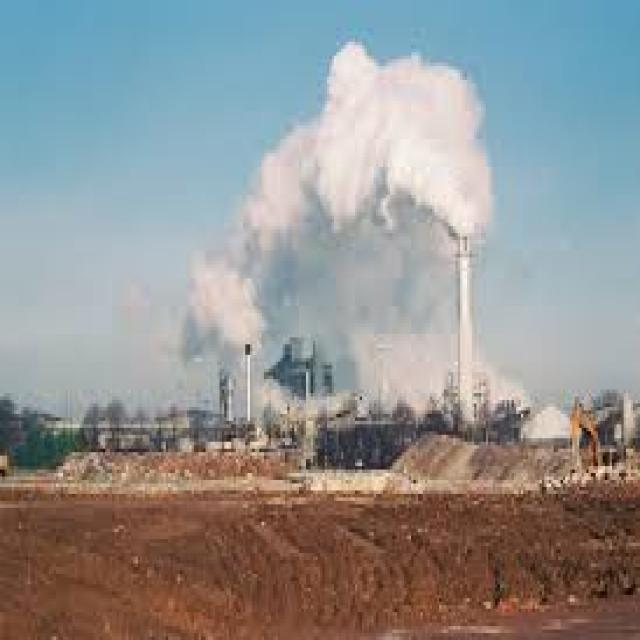Smoke: (179, 39, 496, 374)
